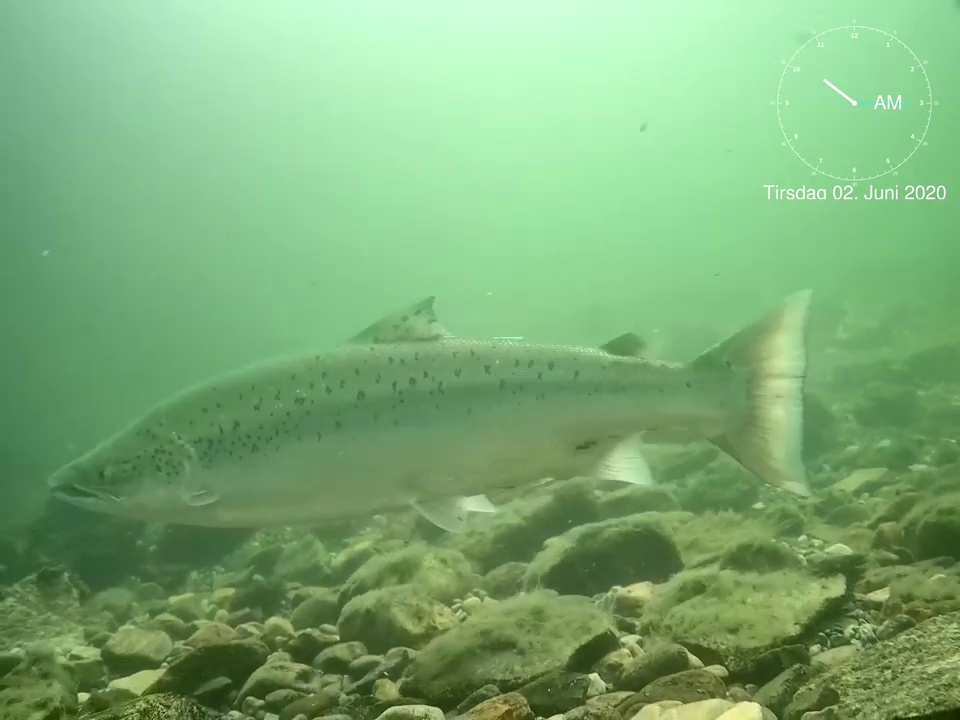salmon: (45, 286, 813, 536)
